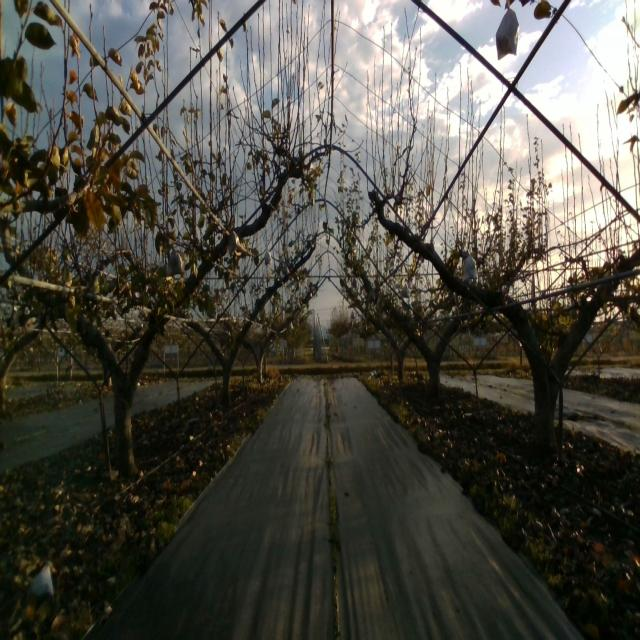pearbags: (496, 0, 519, 59), (462, 251, 479, 283), (166, 250, 184, 278), (226, 230, 239, 250)
